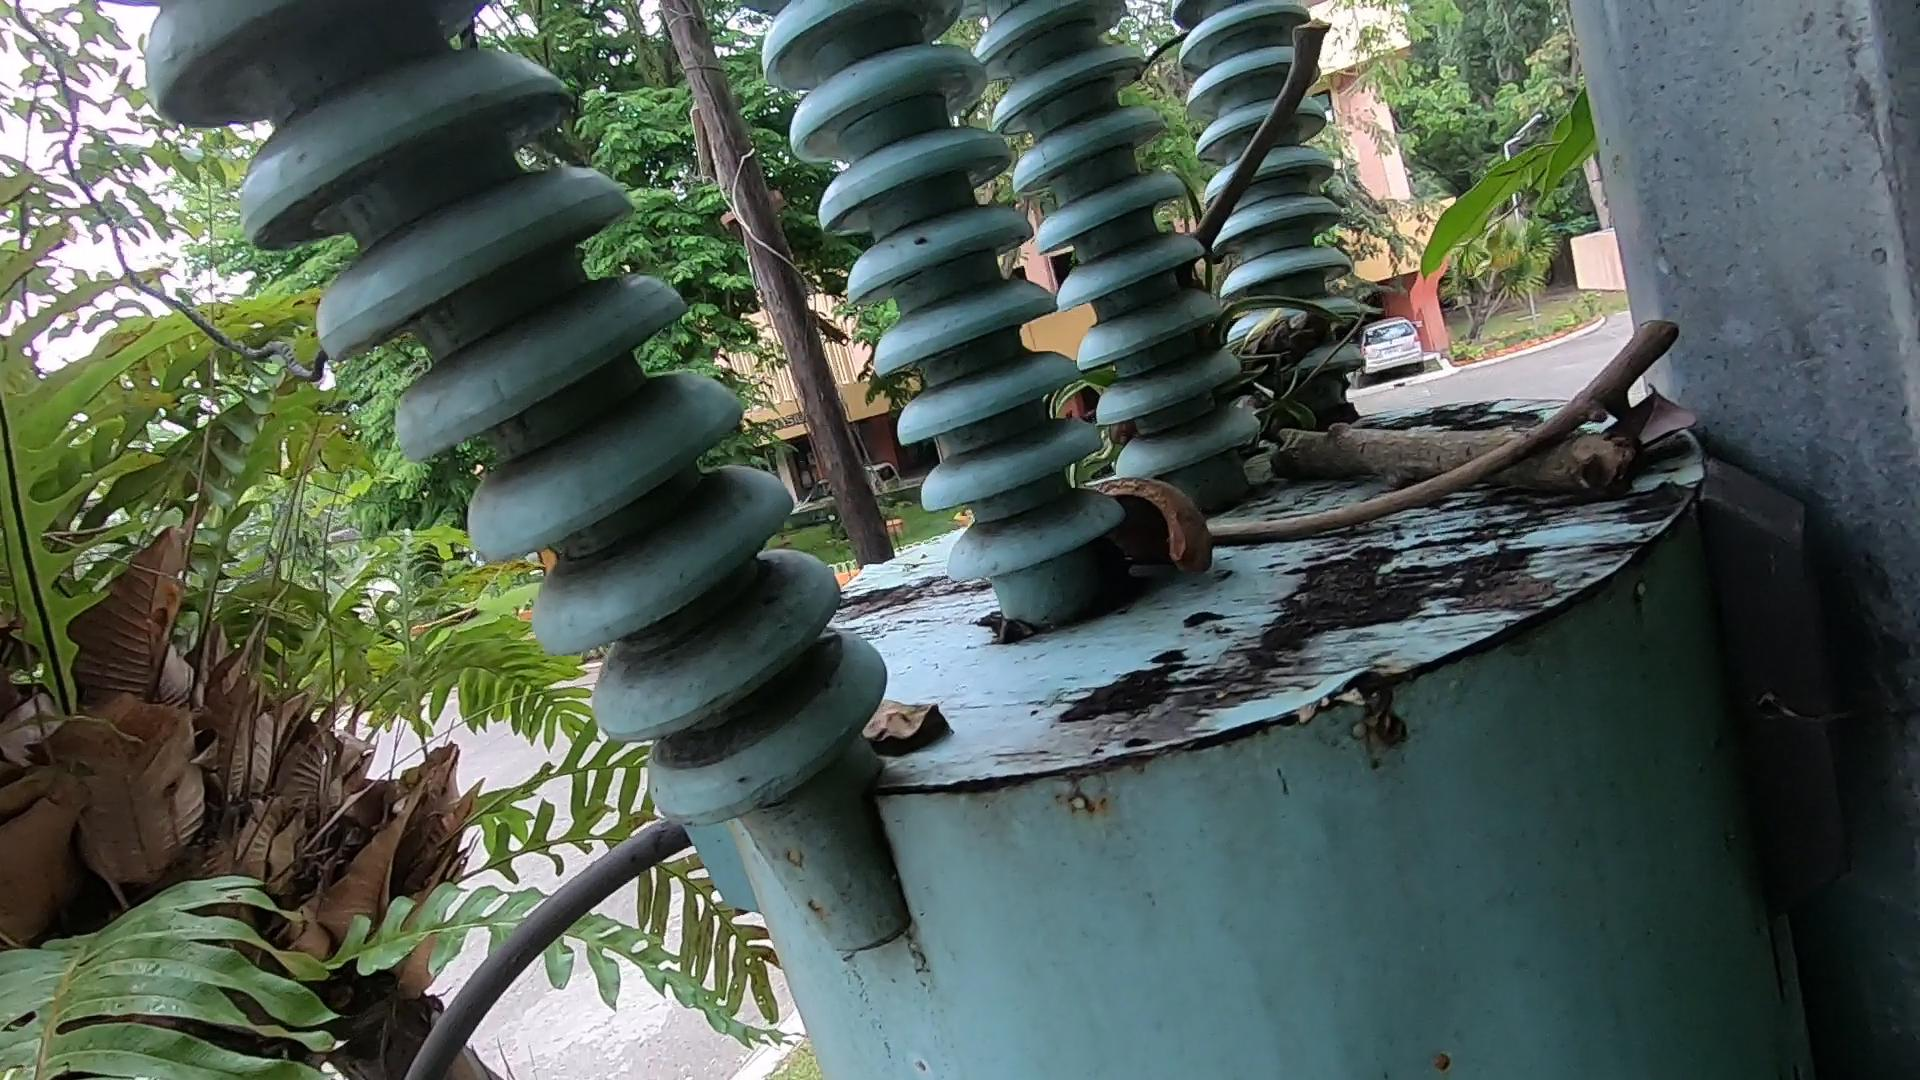branch with leaves: (1129, 273, 1679, 524)
leaf: (1578, 344, 1726, 476), (835, 665, 964, 771)
mahogany fruit: (1069, 476, 1185, 596)
tree branch: (1139, 323, 1677, 559), (1174, 1, 1353, 265)
